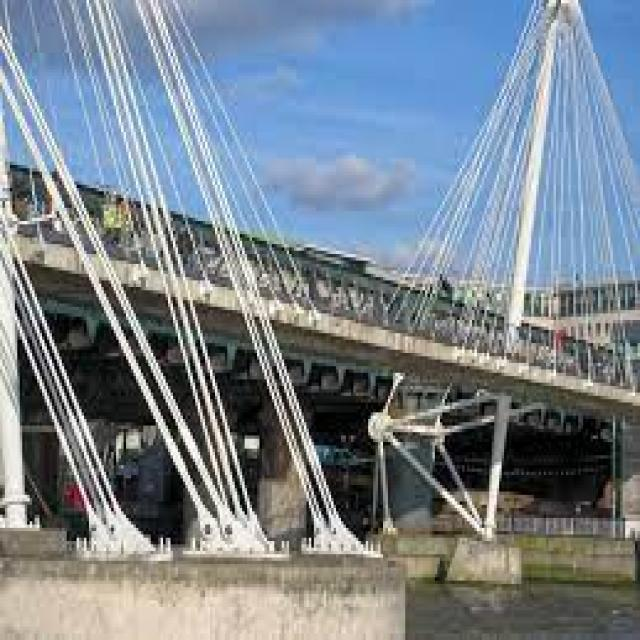Bridges: (2, 3, 640, 564)
